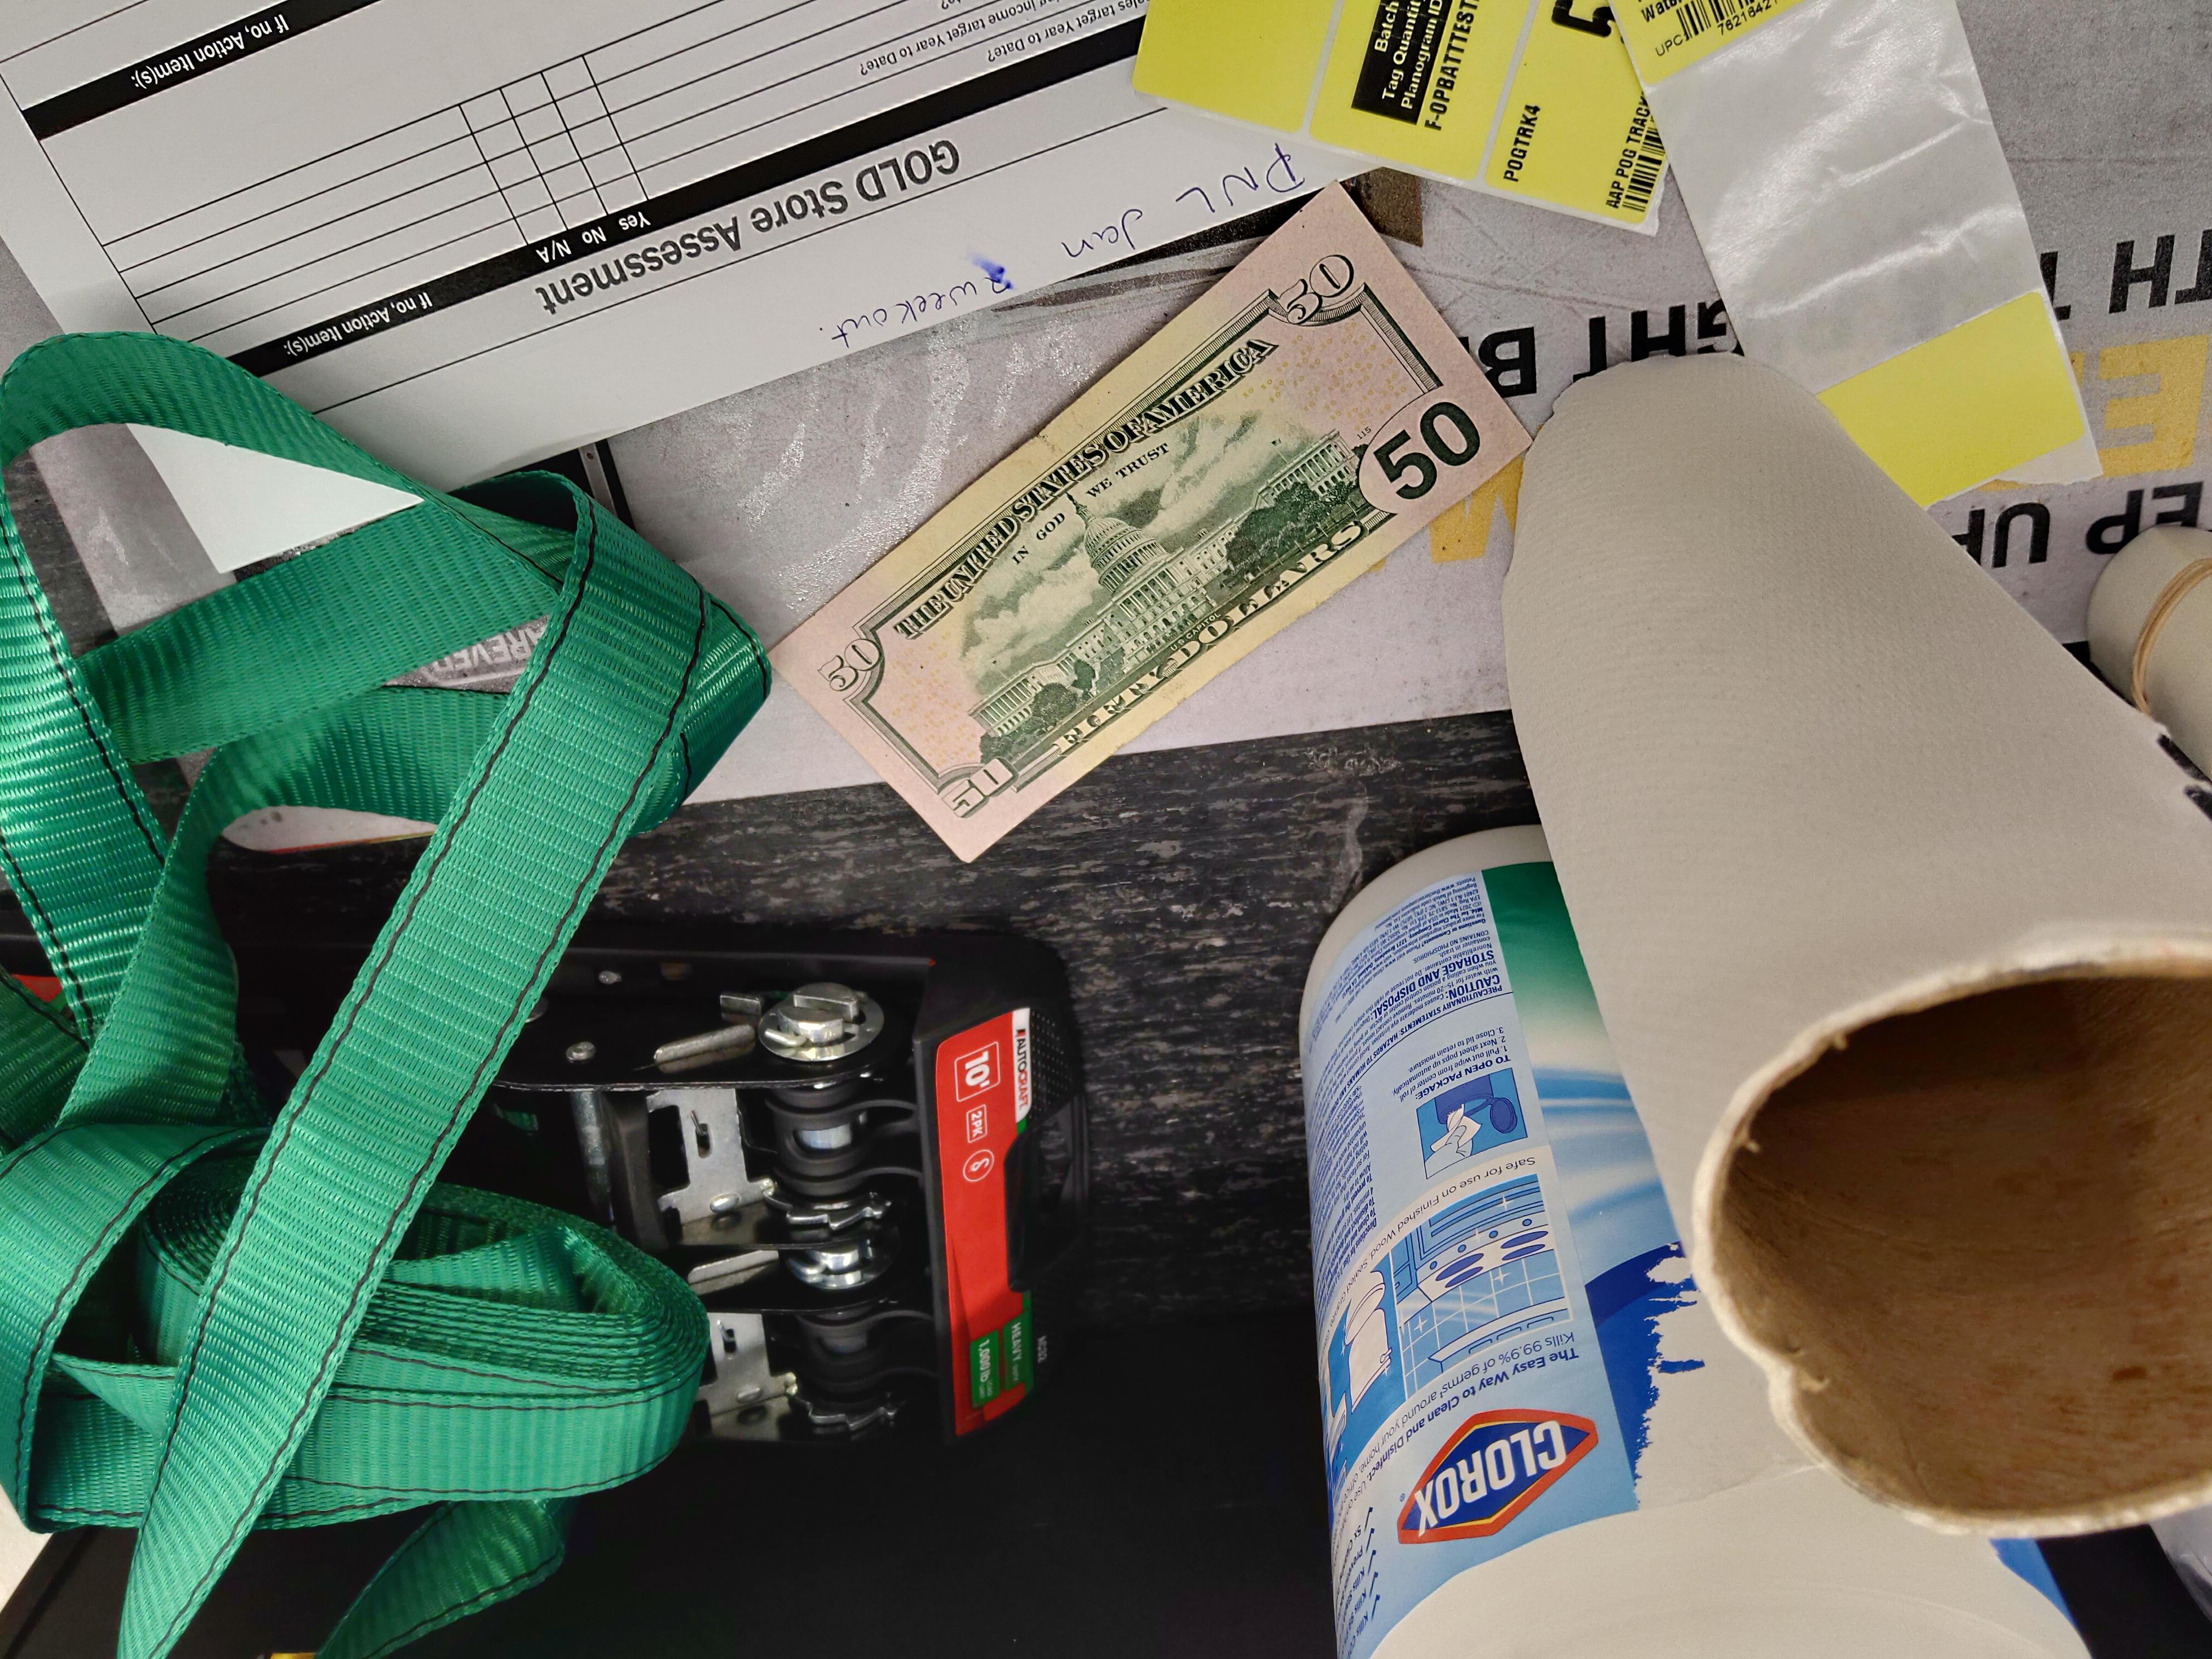FiftyBill: (761, 178, 1534, 859)
